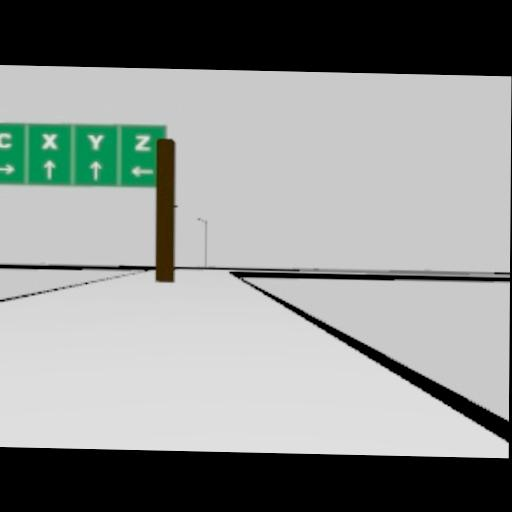C: (0, 132, 11, 148)
Left: (130, 165, 153, 177)
Right: (0, 162, 15, 174)
Straight: (43, 159, 55, 179), (89, 161, 100, 180)
X: (41, 133, 57, 149)
Y: (87, 134, 103, 150)
Z: (134, 135, 150, 151)
